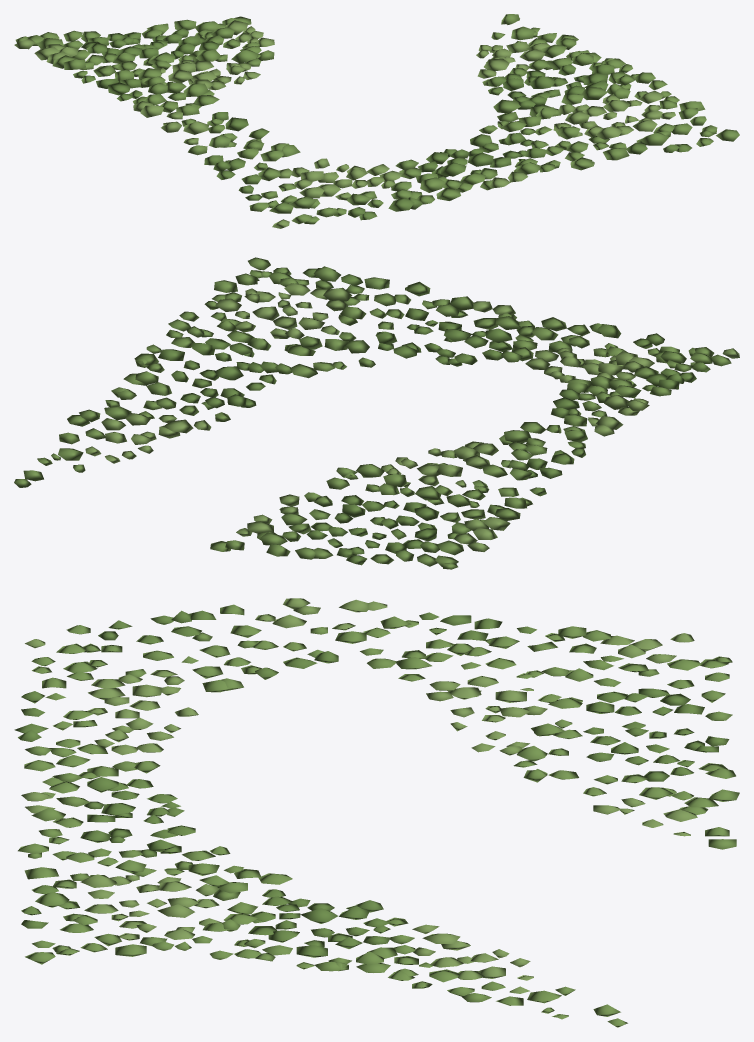
Rendered from canopy-1--6-3.glb.
3 renders of one model, top to bottom at view 1: azimuth 30°, elevation 25°; view 2: azimuth 150°, elevation 25°; view 3: azimuth 270°, elevation 25°, orthographic. The views are drawn at different scales.
Bounding box in the file's own units: 518 × 108 × 520.
1 material, 1 textured.
